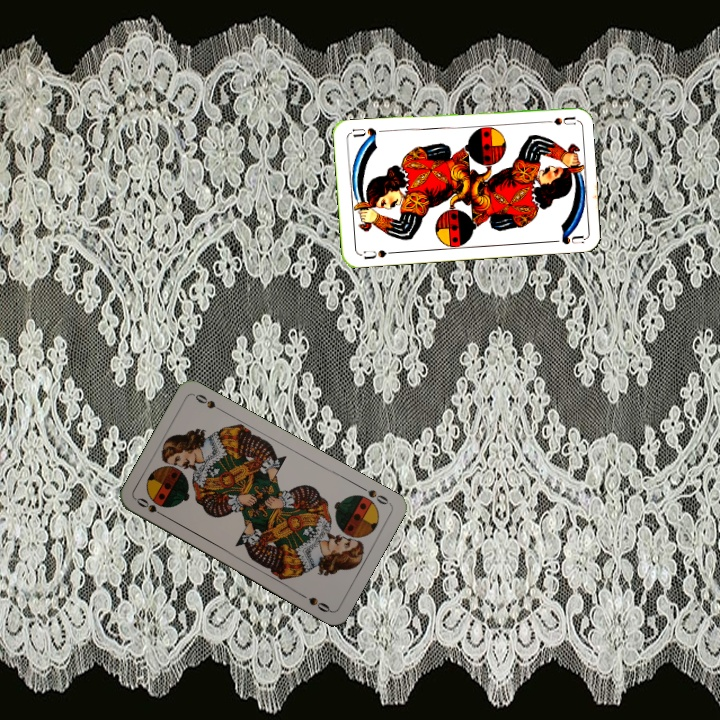SO: (132, 494, 169, 520), (356, 482, 393, 507)
SU: (356, 246, 397, 262), (536, 112, 576, 127)
